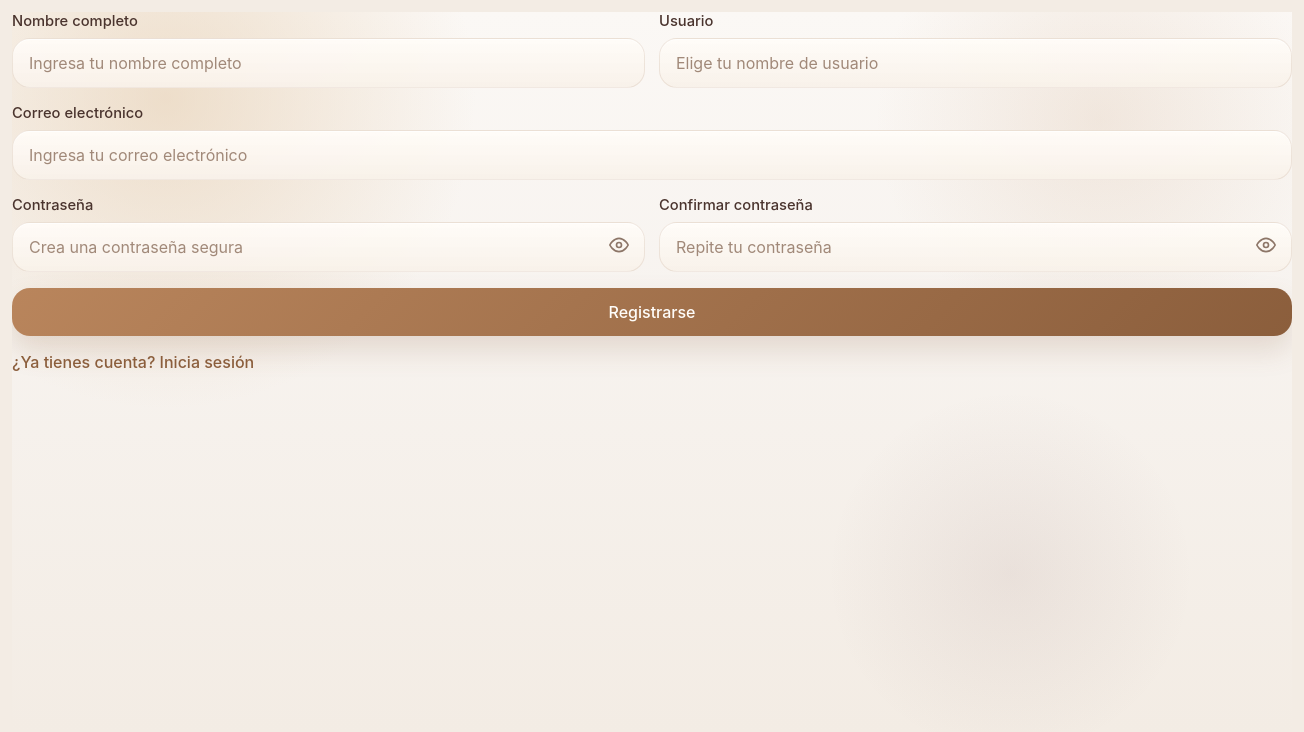
Test: RegisterForm › shows backend field errors, such as a taken email, under their fields
The image size is (1304, 732).
In the field with placeholder "Ingresa tu nombre completo": (328, 63) [12, 38, 645, 88], type "Ana Torres"
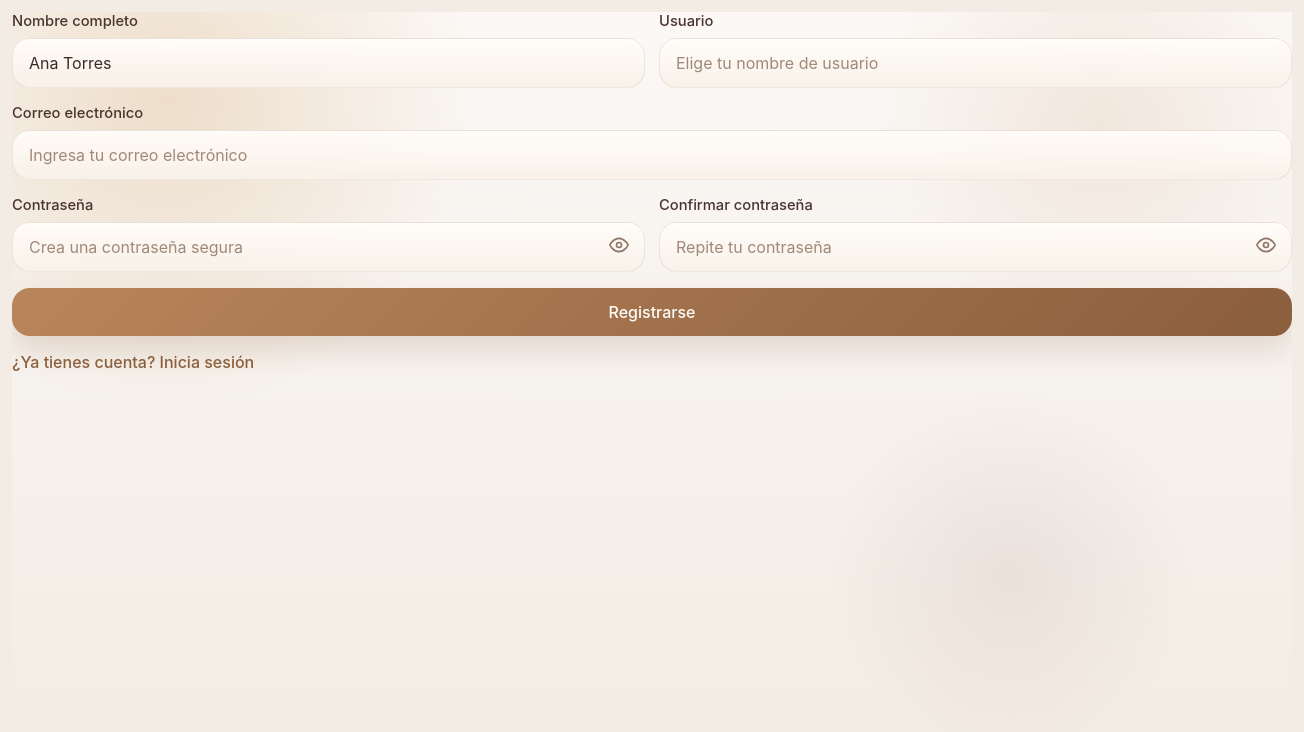
In the field with placeholder "Ingresa tu correo electrónico": (652, 155) [12, 130, 1292, 180], type "ana@gmail.com"
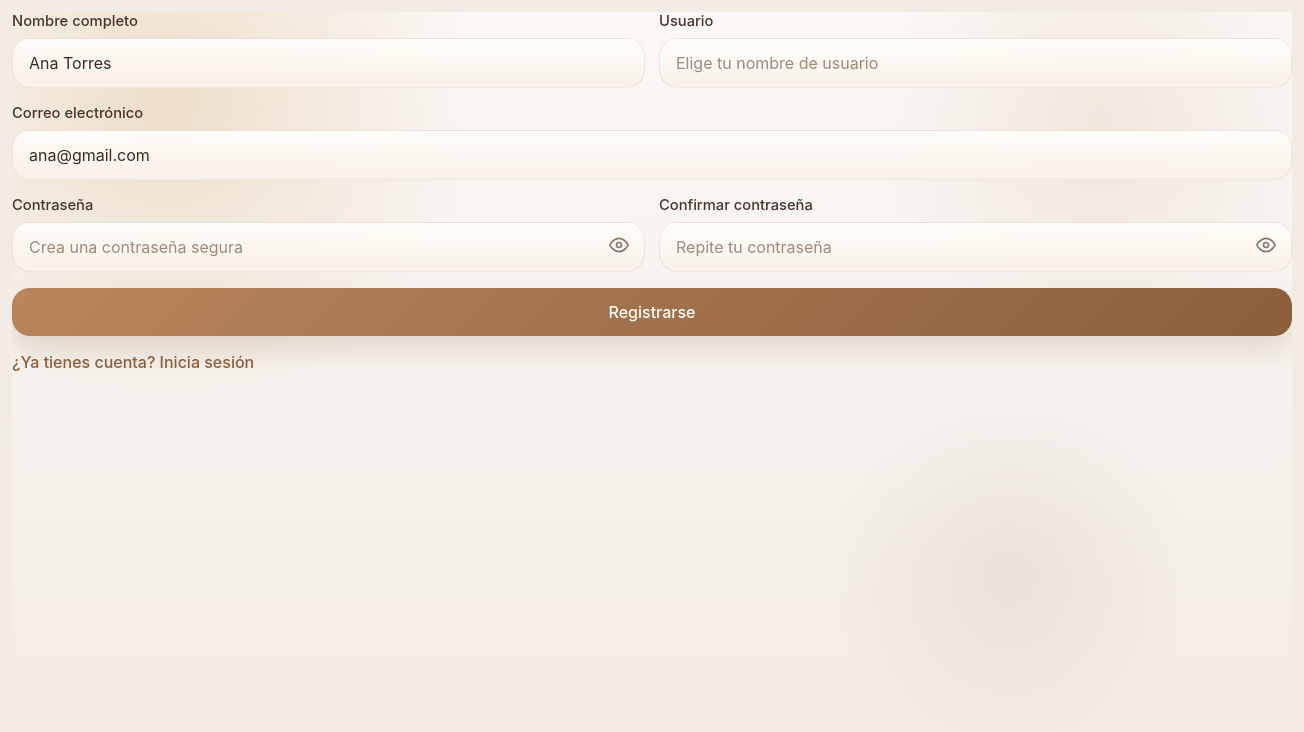
In the field with placeholder "Elige tu nombre de usuario": (976, 63) [659, 38, 1292, 88], type "anaTorres"
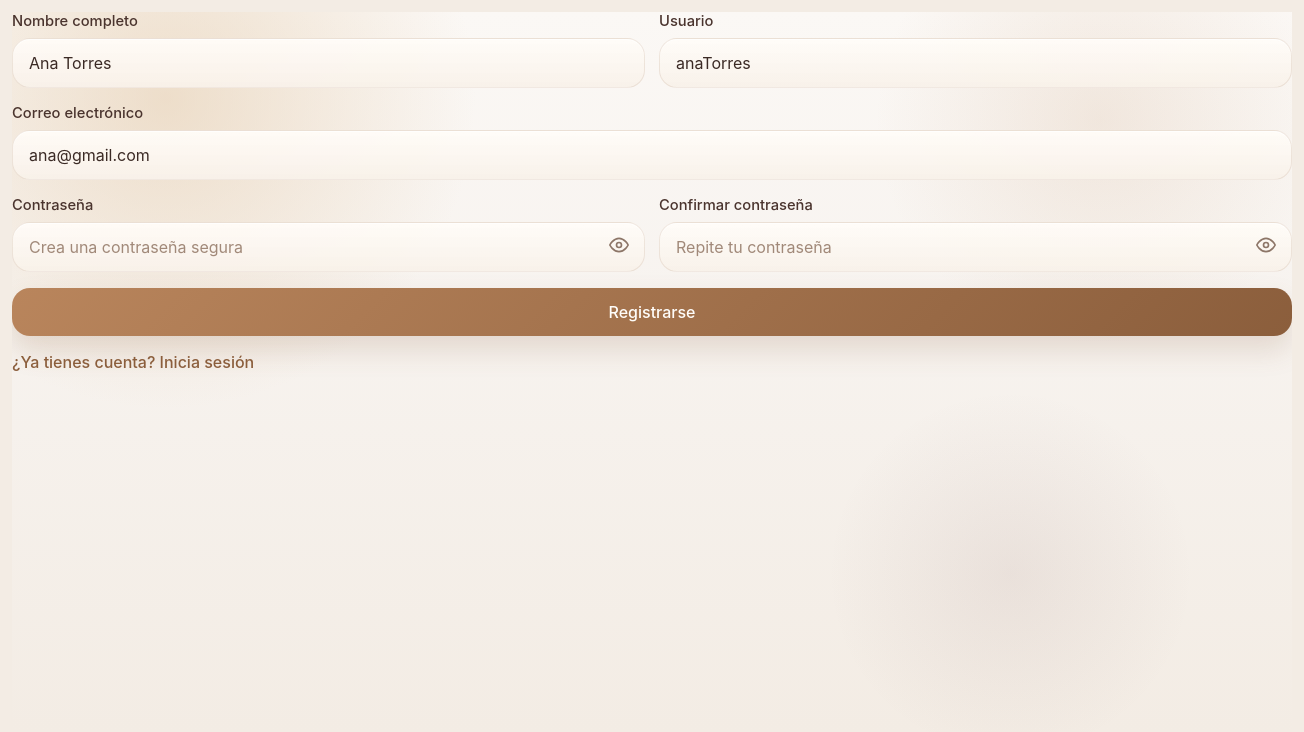
In the password field with placeholder "Crea una contraseña segura": (328, 247) [12, 222, 645, 272], type "Password123"
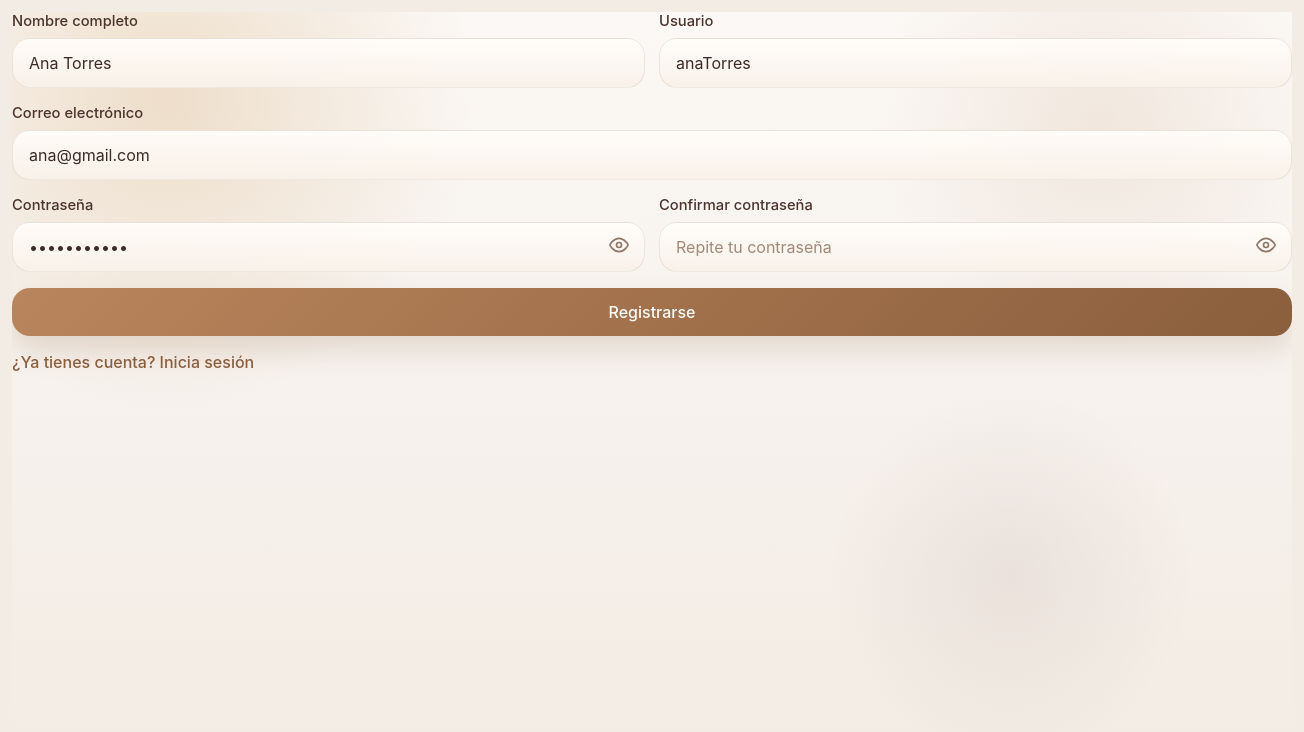
In the password field with placeholder "Repite tu contraseña": (976, 247) [659, 222, 1292, 272], type "Password123"
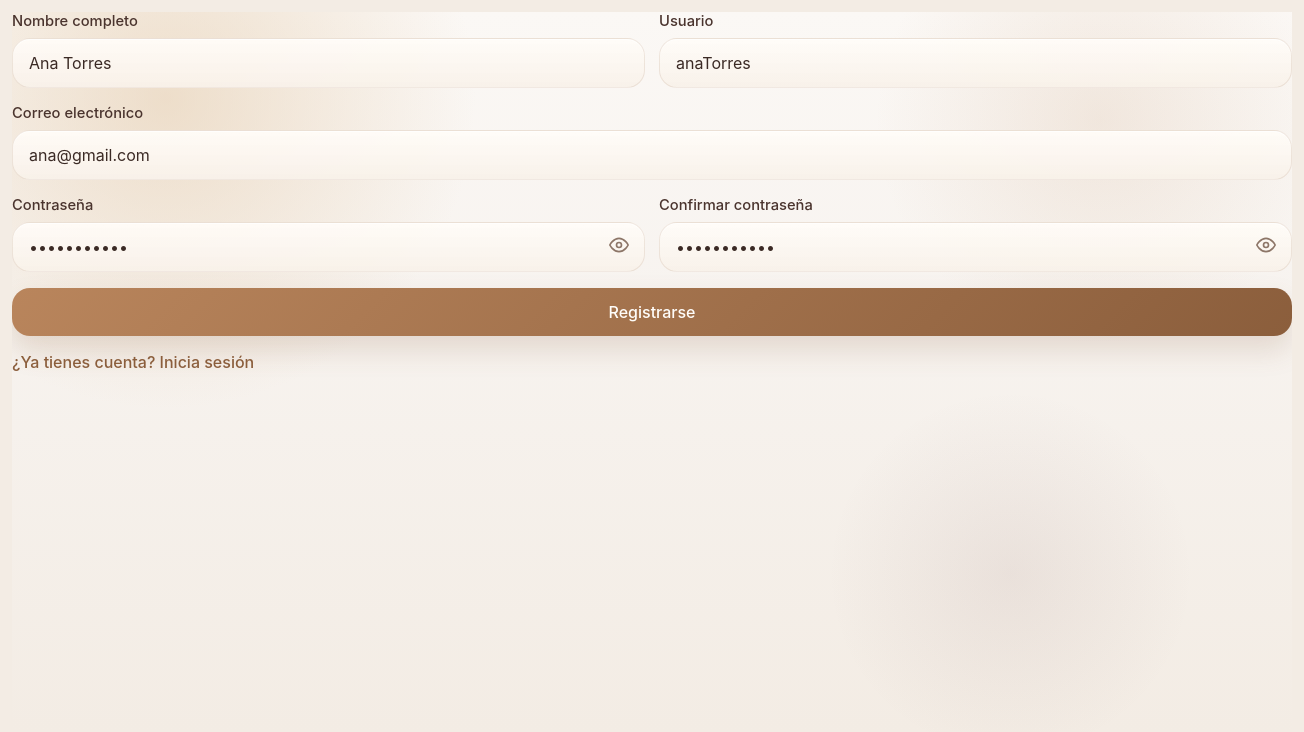
Click the button "Registrarse": click(652, 312) [12, 288, 1292, 336]
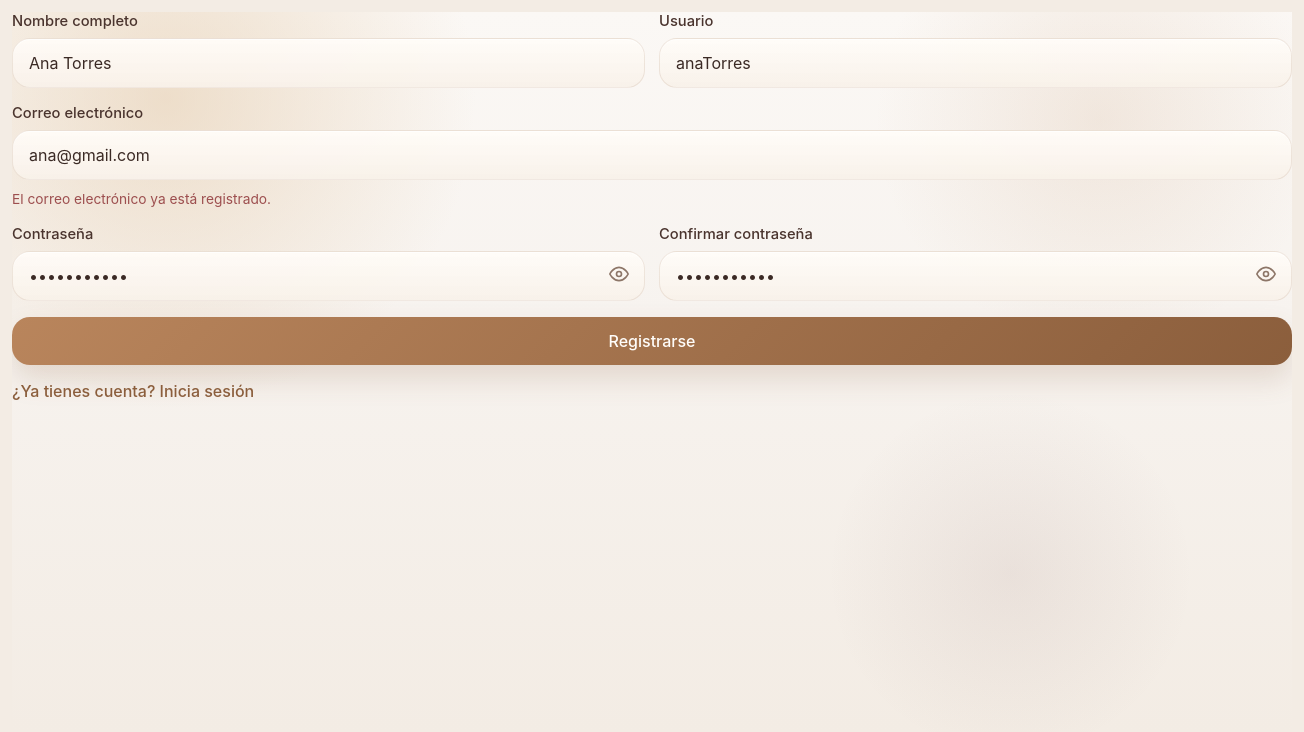
Expected: the message reads "El correo electrónico ya está registrado.", [12, 191, 271, 207]
